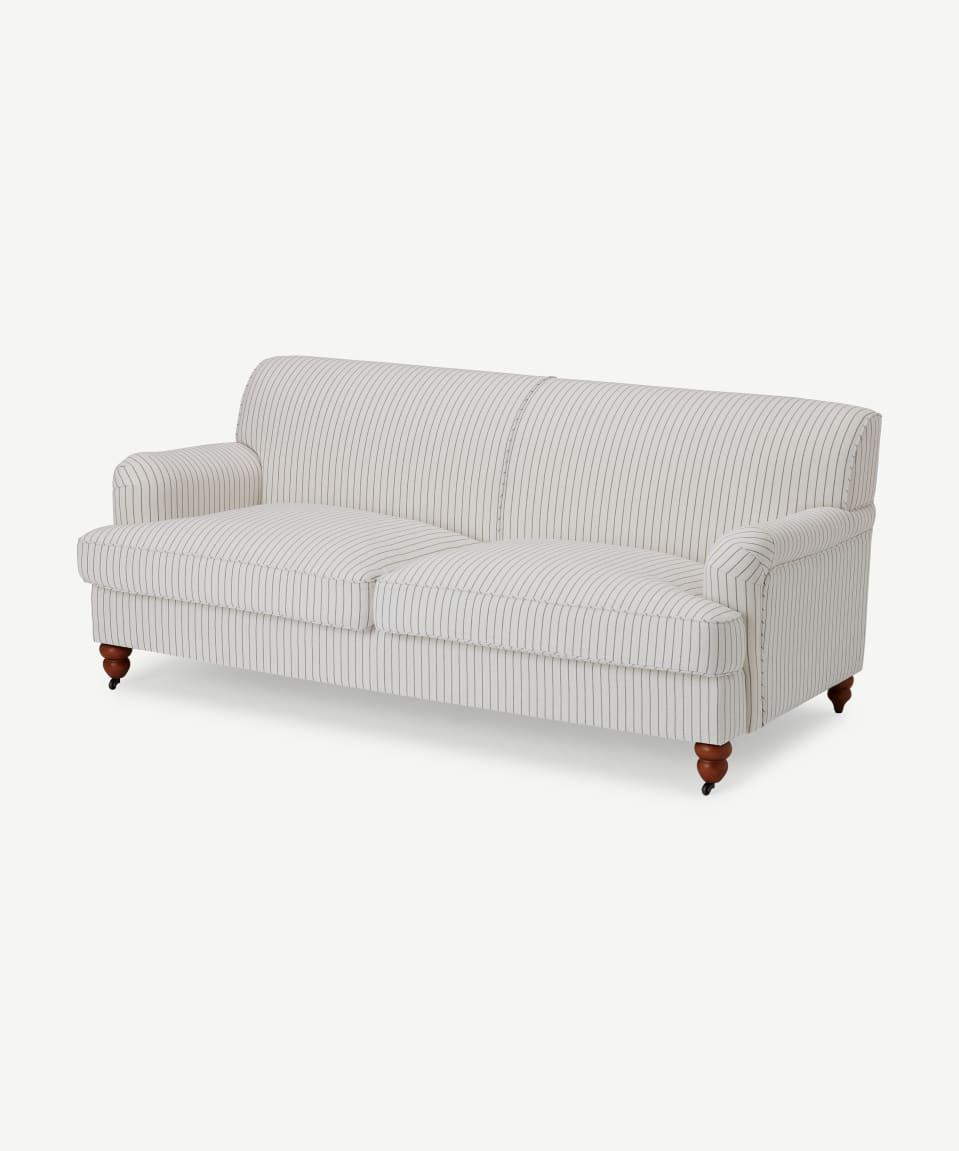couch: (70, 342, 900, 815)
